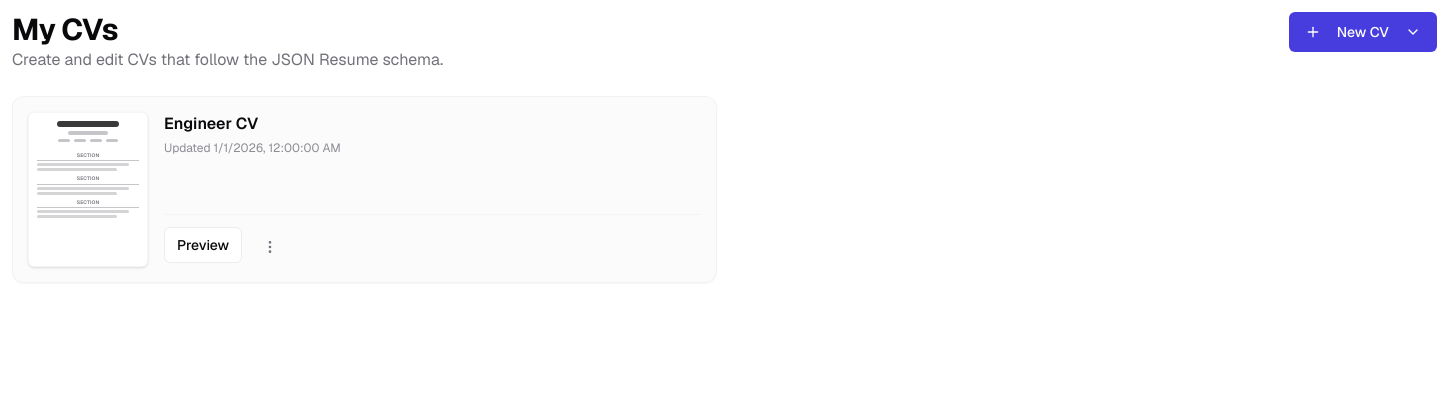
Scenario: CvList › opens a 3-dots menu with Export PDF, Export JSON Resume, and Delete actions (no Edit)
This screenshot has width=1452, height=398.
Click the button named "Open actions for Engineer CV" at (270, 247), box [250, 227, 290, 267]
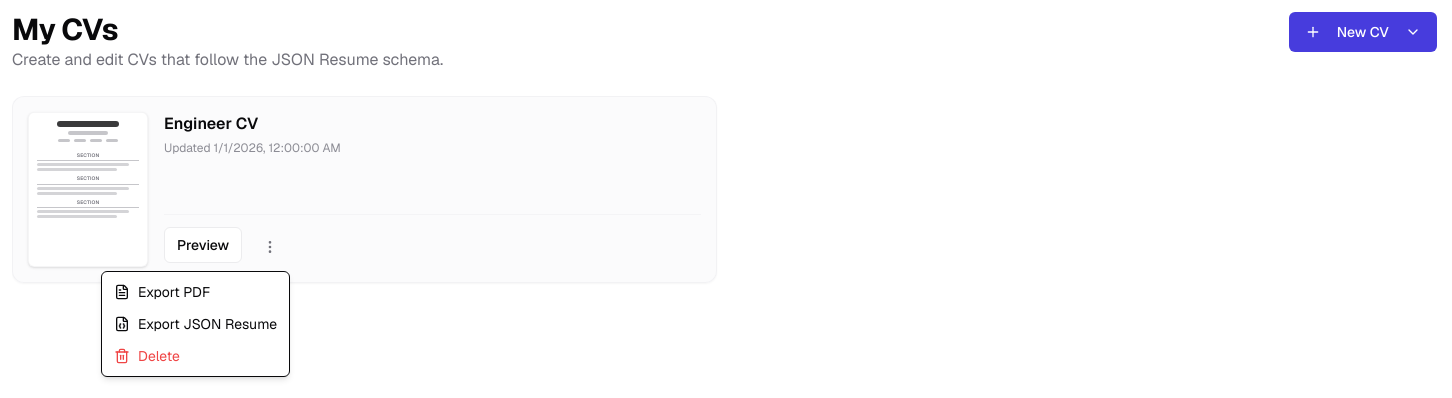
Expected: the menu item "Export PDF" is shown, [114, 283, 210, 301]
Expected: the menu item "Export JSON Resume" is shown, [114, 315, 277, 333]
Expected: the menu item "Delete" is shown, [114, 347, 180, 365]
